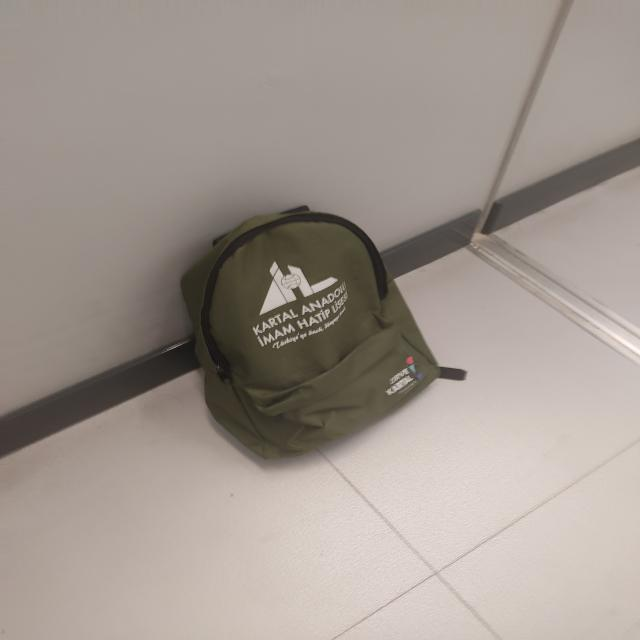bag: (154, 198, 469, 463)
